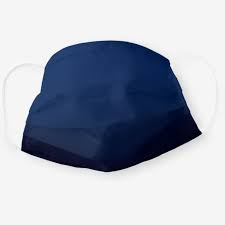cloth_mask: (1, 40, 225, 174)
